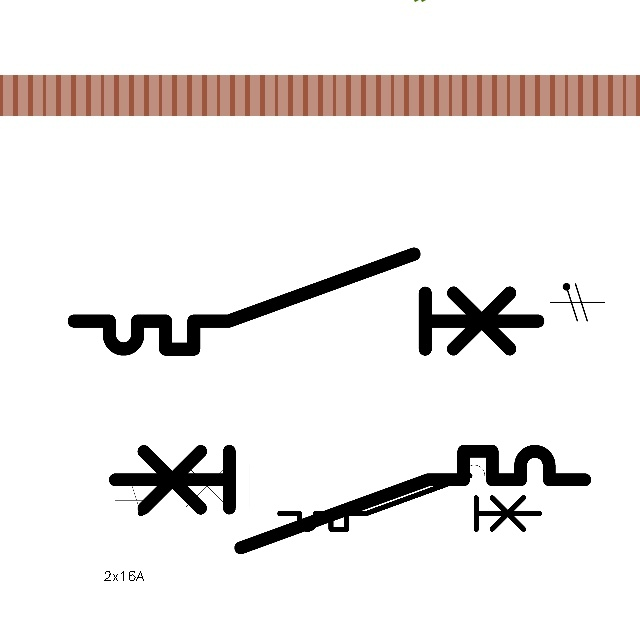interruptor_termomagnetico: (103, 439, 597, 560), (62, 242, 549, 361), (156, 456, 520, 545), (273, 469, 546, 536)
